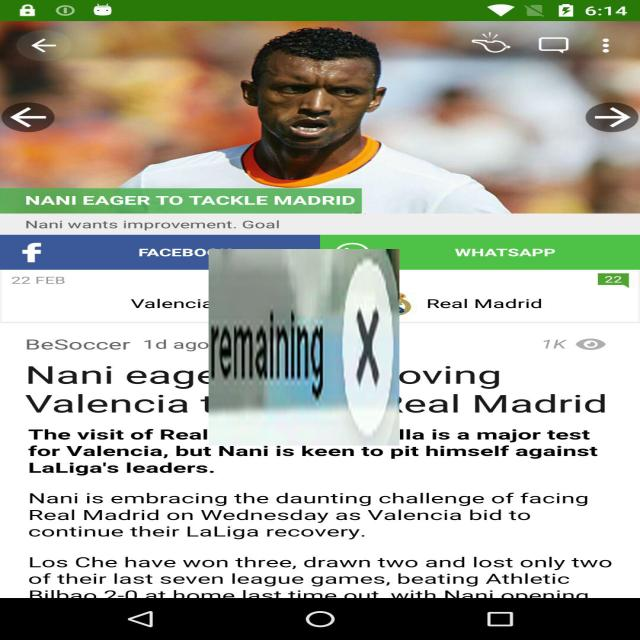misdirection: (208, 249, 400, 446)
